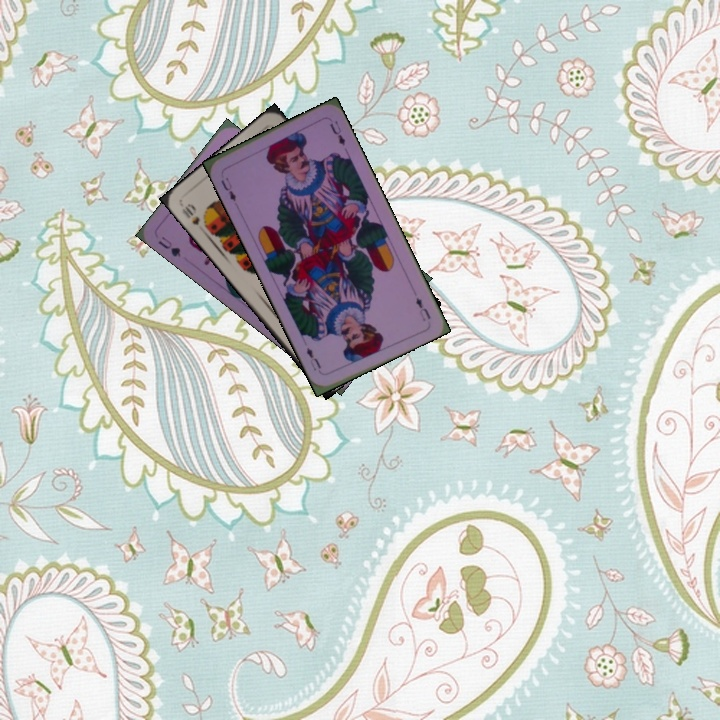EU: (216, 173, 239, 204), (412, 293, 433, 324)
GU: (154, 232, 183, 260)
S10: (178, 200, 202, 228)
